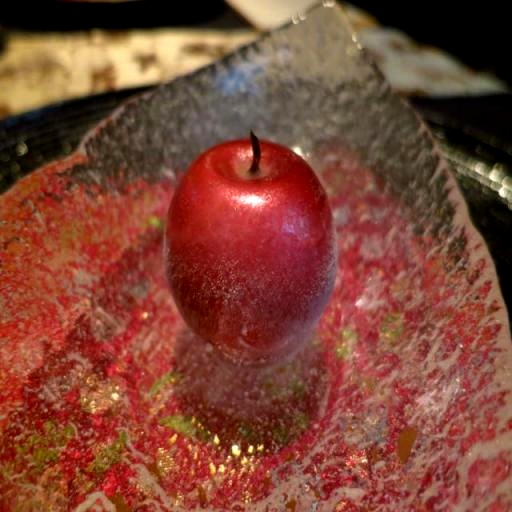fruit: (165, 135, 336, 363)
